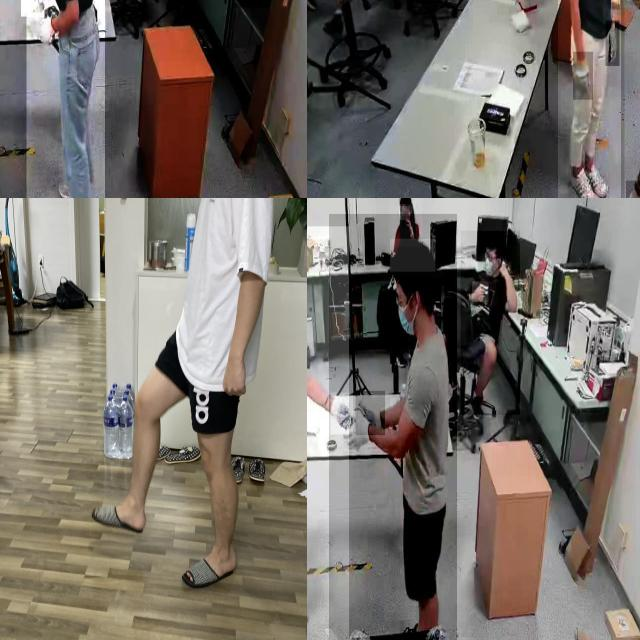Sandals: (182, 542, 240, 589), (90, 491, 150, 533)
face_mask: (400, 294, 416, 344), (482, 253, 496, 289)
face_nomask: (399, 206, 411, 221)
hand_glove: (355, 391, 385, 435), (348, 406, 372, 457), (573, 51, 593, 100), (331, 392, 353, 434), (38, 13, 56, 58), (606, 20, 620, 66), (21, 0, 48, 17), (626, 180, 640, 198)
hand_noglove: (472, 281, 489, 303), (497, 260, 507, 274), (402, 216, 412, 228)
head_nohelmet: (390, 238, 436, 272), (484, 233, 502, 250), (399, 198, 412, 205)
person: (328, 213, 457, 640), (307, 226, 349, 640), (26, 0, 105, 198), (558, 0, 621, 198), (460, 230, 520, 416), (389, 198, 422, 246)
shoes: (580, 153, 611, 198), (567, 158, 597, 198)
